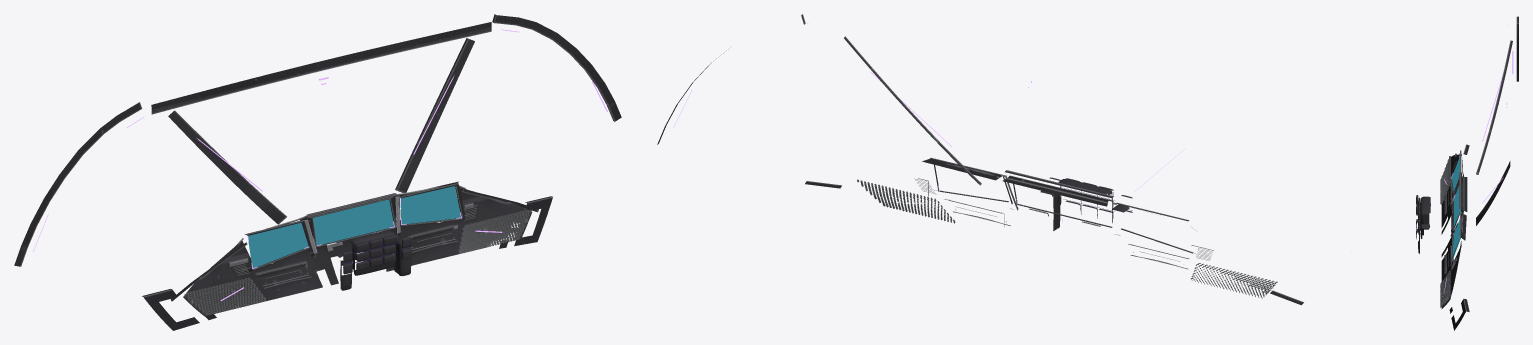
Rendered from cockpit_hayalet_m.glb.
The picture shows the model from 3 angles, left to right: view 1: azimuth 30°, elevation 25°; view 2: azimuth 150°, elevation 25°; view 3: azimuth 270°, elevation 25°; orthographic projection. The views are drawn at different scales.
Parts seen in each view (by area): view 1: LOD0_body, SCR_RADAR, SCR_HULL, SCR_SYS, LOD0_emit; view 2: LOD0_body; view 3: LOD0_body, LOD0_emit, SCR_RADAR, SCR_HULL, SCR_SYS.
Part boxes in pixels (left/top/right/bottom): LOD0_body: left=14, top=14, right=621, bottom=330; SCR_RADAR: left=313, top=199, right=393, bottom=245; SCR_HULL: left=400, top=186, right=460, bottom=224; SCR_SYS: left=248, top=223, right=308, bottom=267; LOD0_emit: left=33, top=29, right=607, bottom=301; LOD0_body: left=657, top=14, right=1303, bottom=305; LOD0_body: left=1416, top=16, right=1518, bottom=330; LOD0_emit: left=1444, top=25, right=1513, bottom=293; SCR_RADAR: left=1454, top=185, right=1461, bottom=229; SCR_HULL: left=1452, top=219, right=1460, bottom=259; SCR_SYS: left=1451, top=157, right=1459, bottom=192.
Bounding box in the file's own units: 4.82 × 1.52 × 0.8473.
3 materials, 1 textured.
